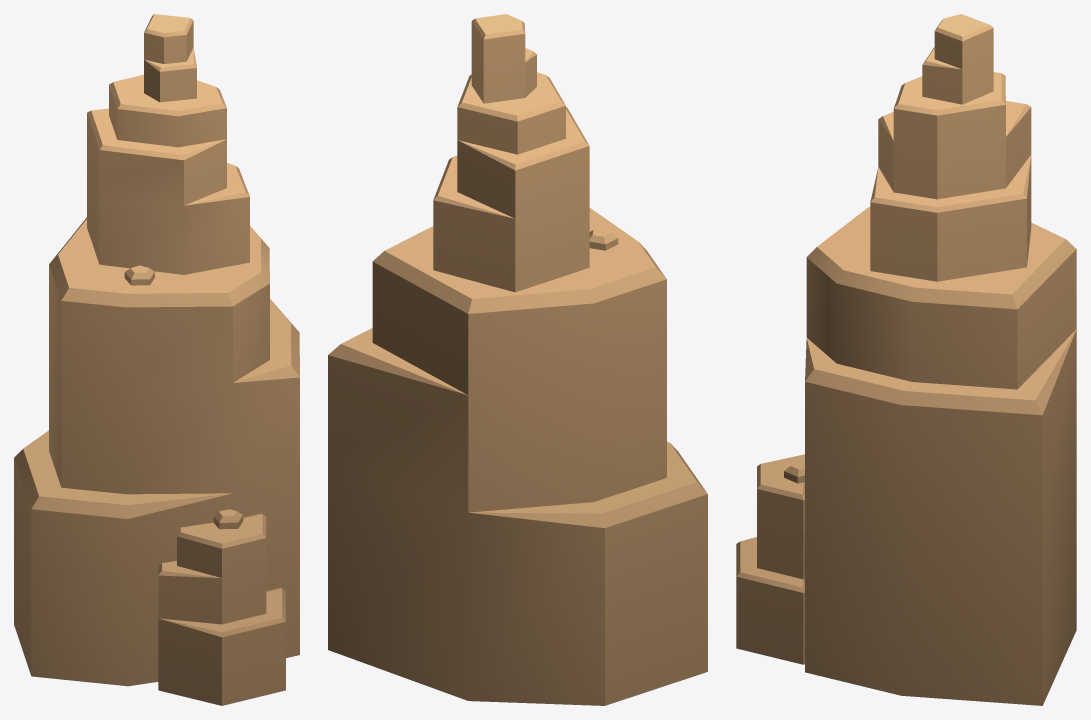
The model's file is Rock_1_N_Sand.glb.
The picture shows the model from 3 angles, left to right: view 1: azimuth 30°, elevation 25°; view 2: azimuth 150°, elevation 25°; view 3: azimuth 270°, elevation 25°; orthographic projection. The views are drawn at different scales.
Parts seen in each view (by area): view 1: Rock_1_N_Color1; view 2: Rock_1_N_Color1; view 3: Rock_1_N_Color1.
Part boxes in pixels (x1=…): Rock_1_N_Color1: x1=14, y1=14, x2=299, y2=705; Rock_1_N_Color1: x1=328, y1=14, x2=707, y2=705; Rock_1_N_Color1: x1=736, y1=14, x2=1076, y2=705.
Bounding box in the file's own units: 2.3 × 4.5 × 2.24.
1 material, 1 textured.
